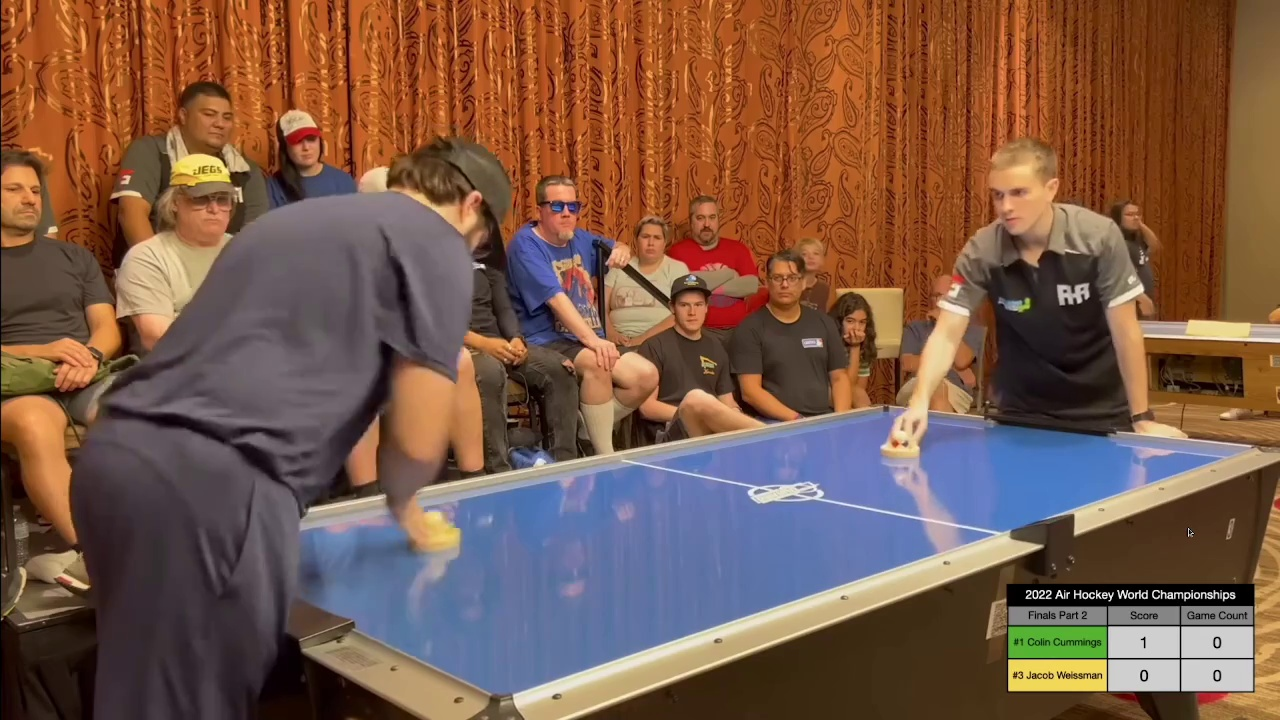player: (411, 503, 471, 554), (882, 428, 922, 463)
table: (181, 407, 1273, 689)
